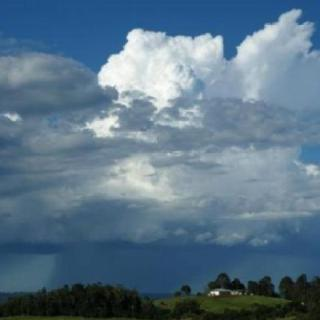Cumulonimbus: (0, 6, 320, 252)
